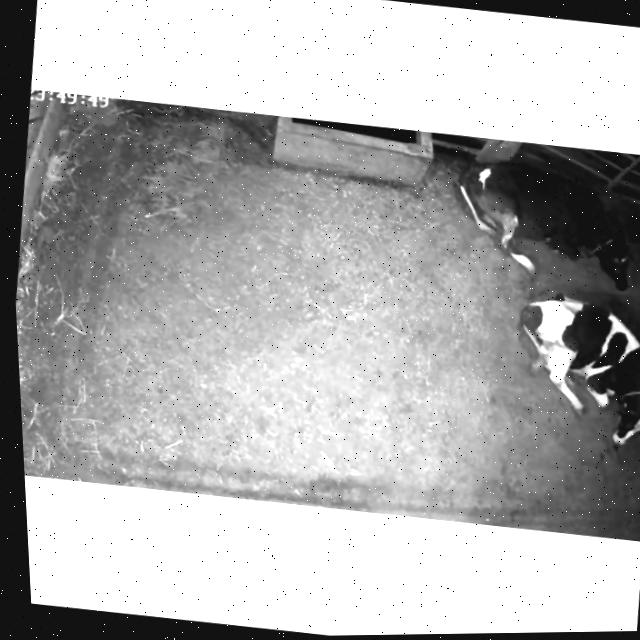lay: (440, 142, 640, 303), (498, 286, 640, 449)
